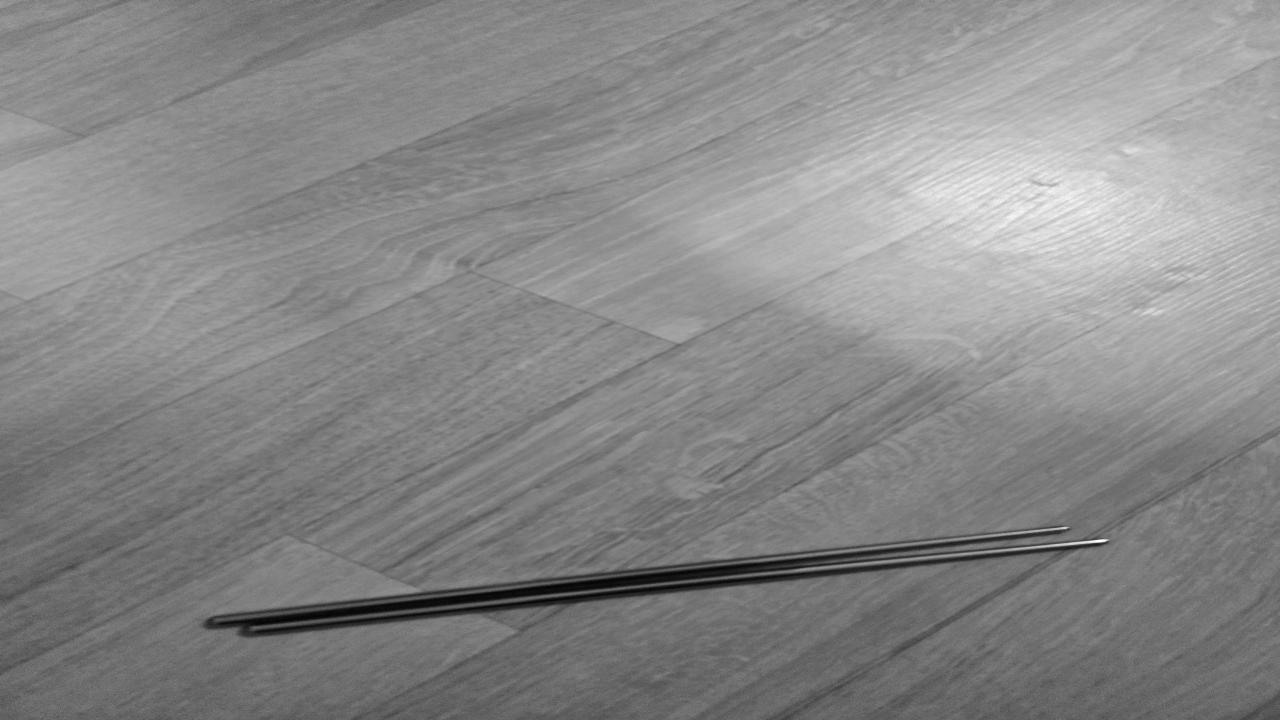chopstick: (205, 526, 1109, 636)
